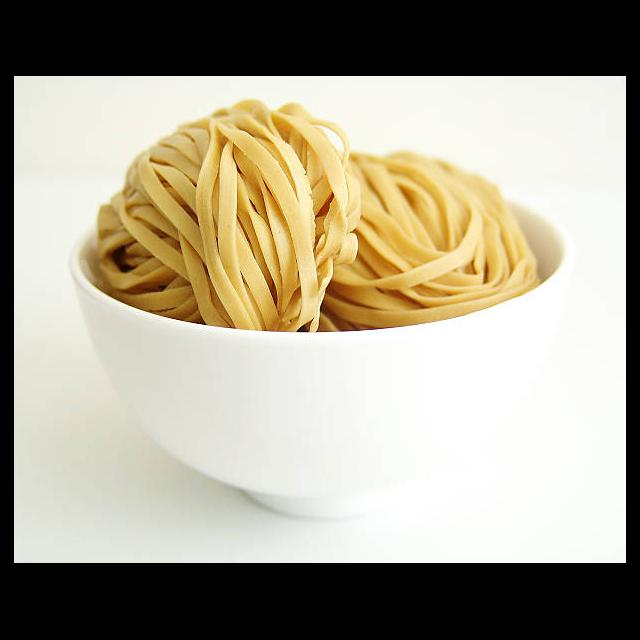noodles: (95, 99, 540, 332)
